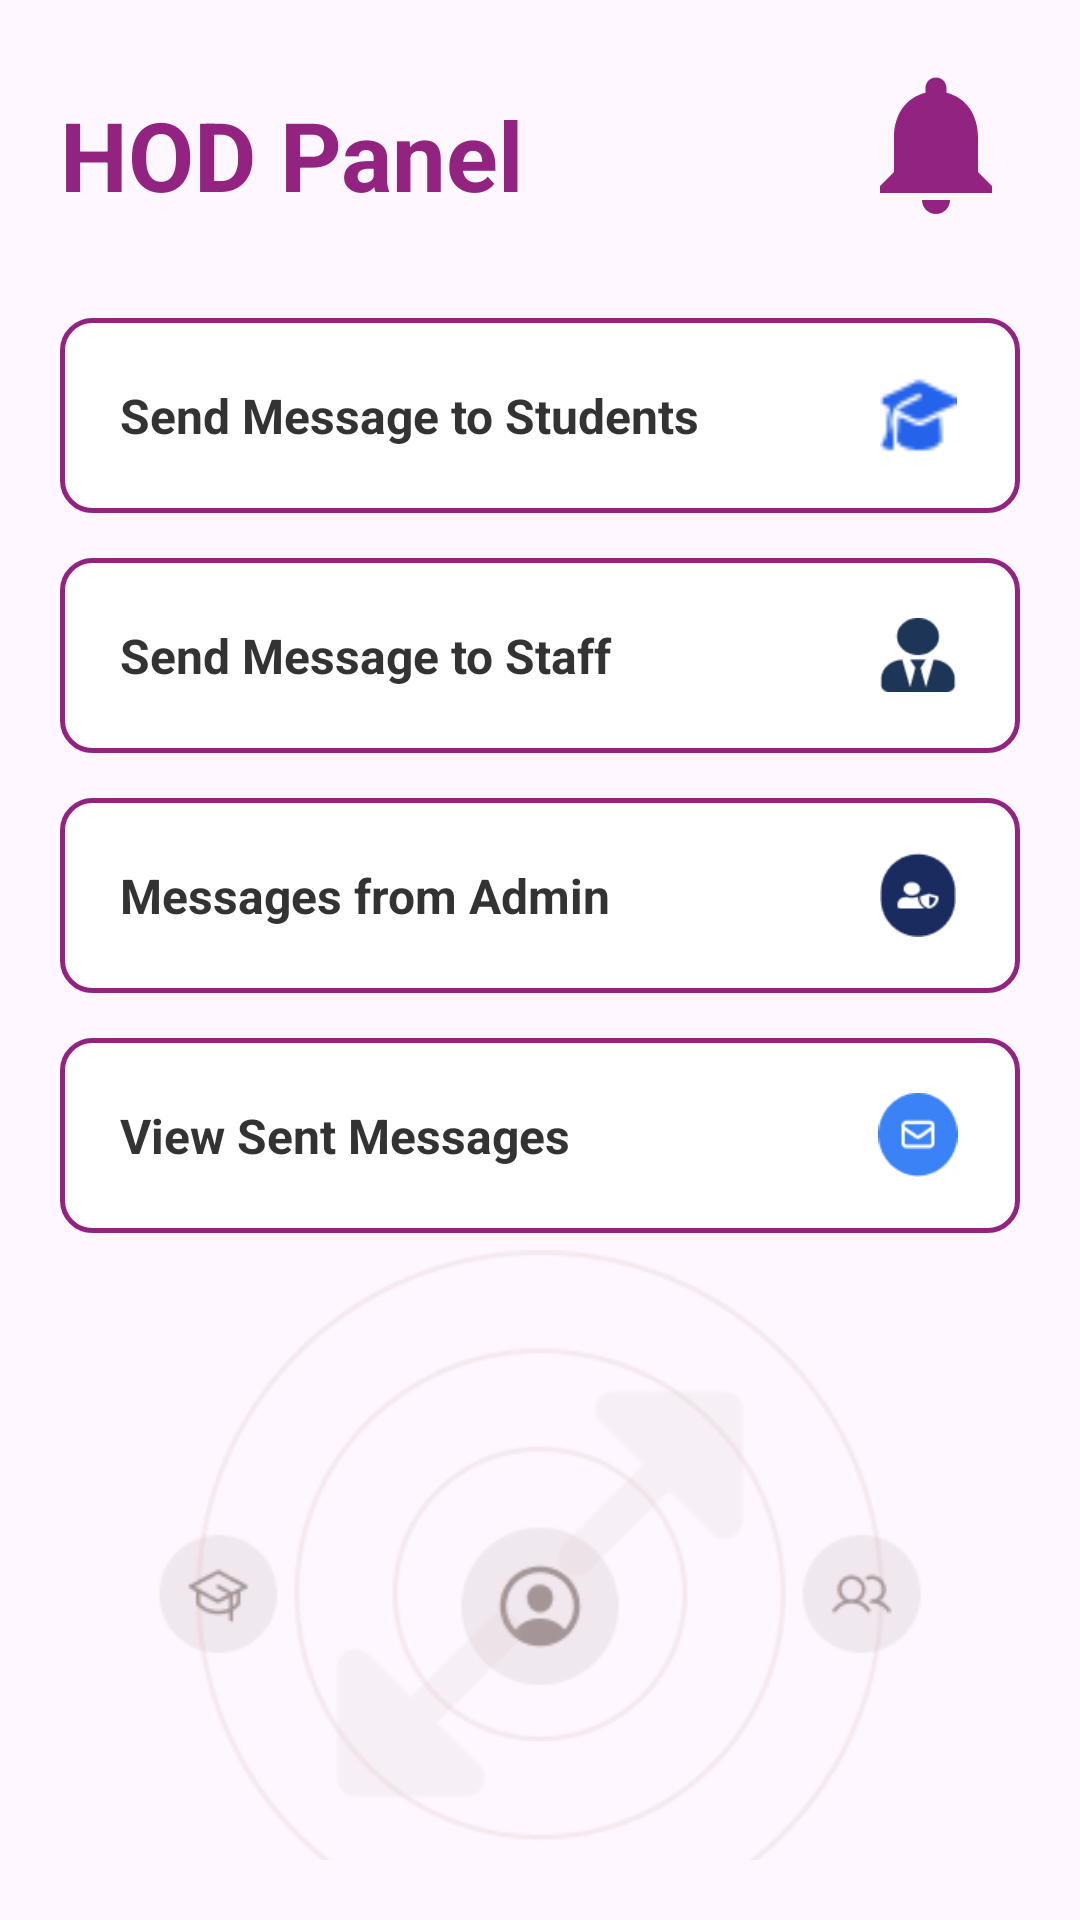

Screen size 1080 x 1920. Icon name, then its center in pixels as point (x, y):
Notifications: point (936, 145)
